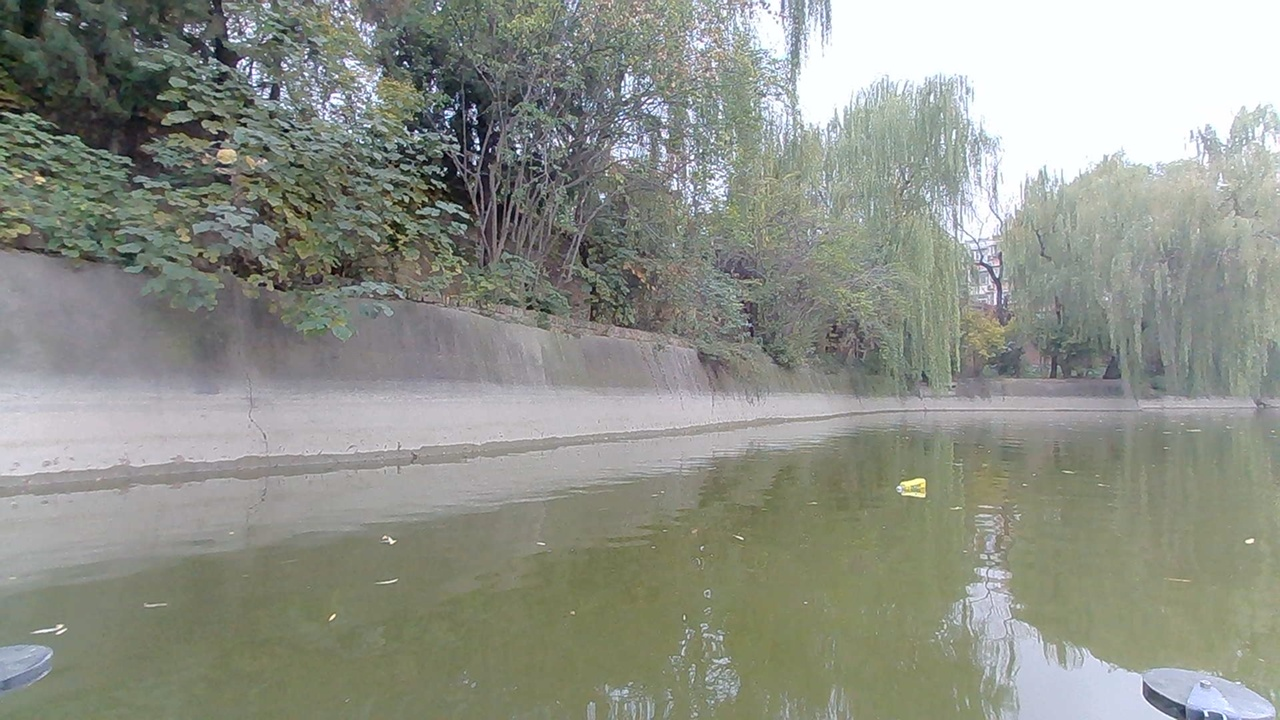bottle: (897, 476, 931, 499)
